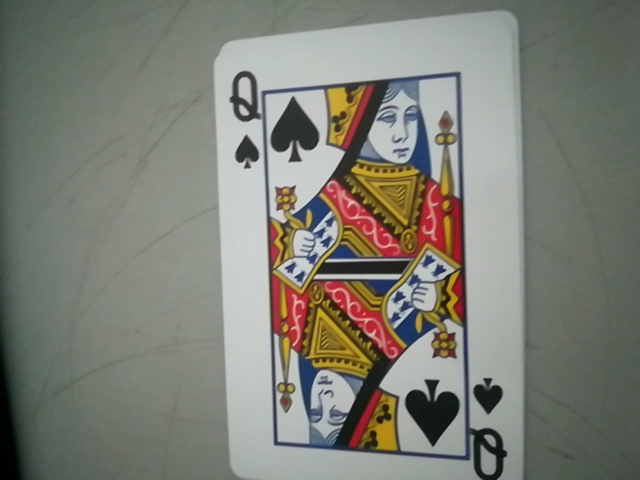ht q: (216, 54, 272, 174), (469, 374, 511, 480)
